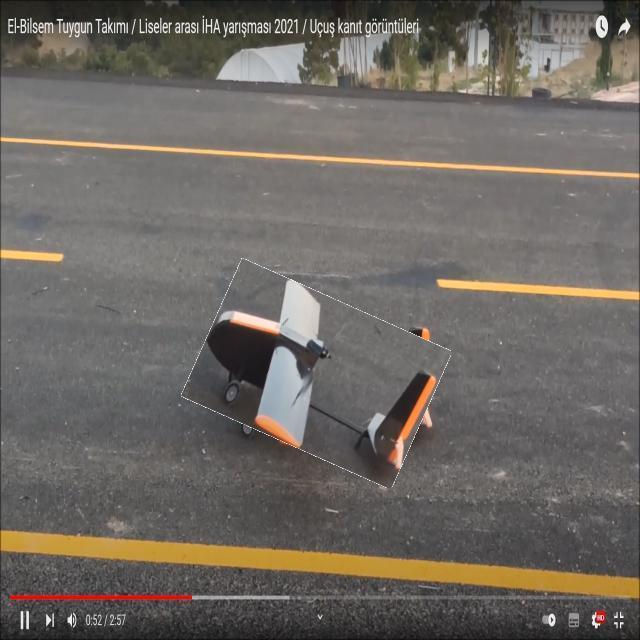iha: (196, 259, 452, 476)
